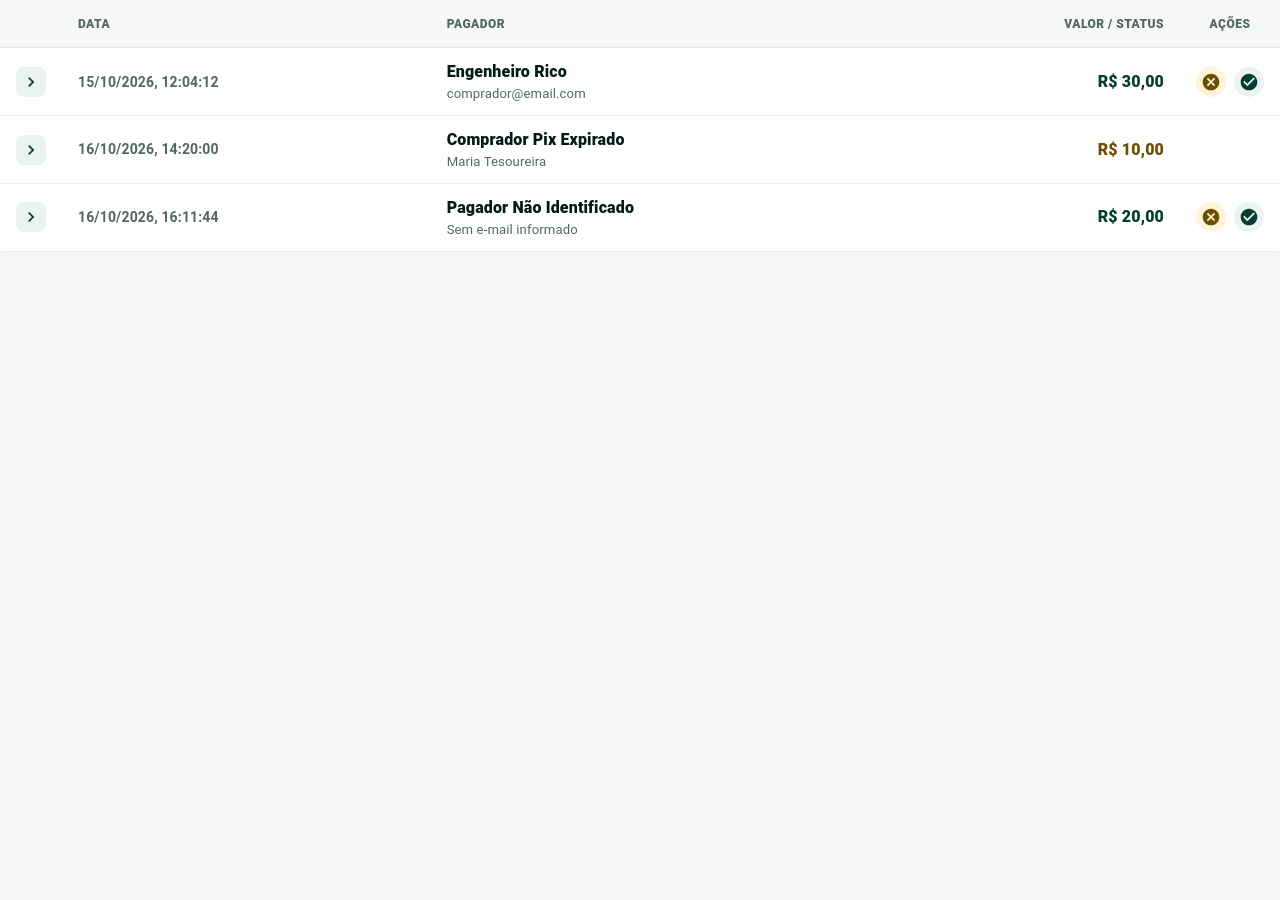
Componente: PixTransacoesTable › Deve exibir dados resumidos e abrir detalhes da transação
The width and height of the screenshot is (1280, 900).
Expected: the text "Engenheiro Rico" is shown, [447, 62, 567, 81]
Expected: the text "R$ 30,00" is shown, [1098, 70, 1164, 94]
Click the button named "abrir detalhes da transação pix engenheiro rico": click(31, 82) [16, 67, 46, 97]
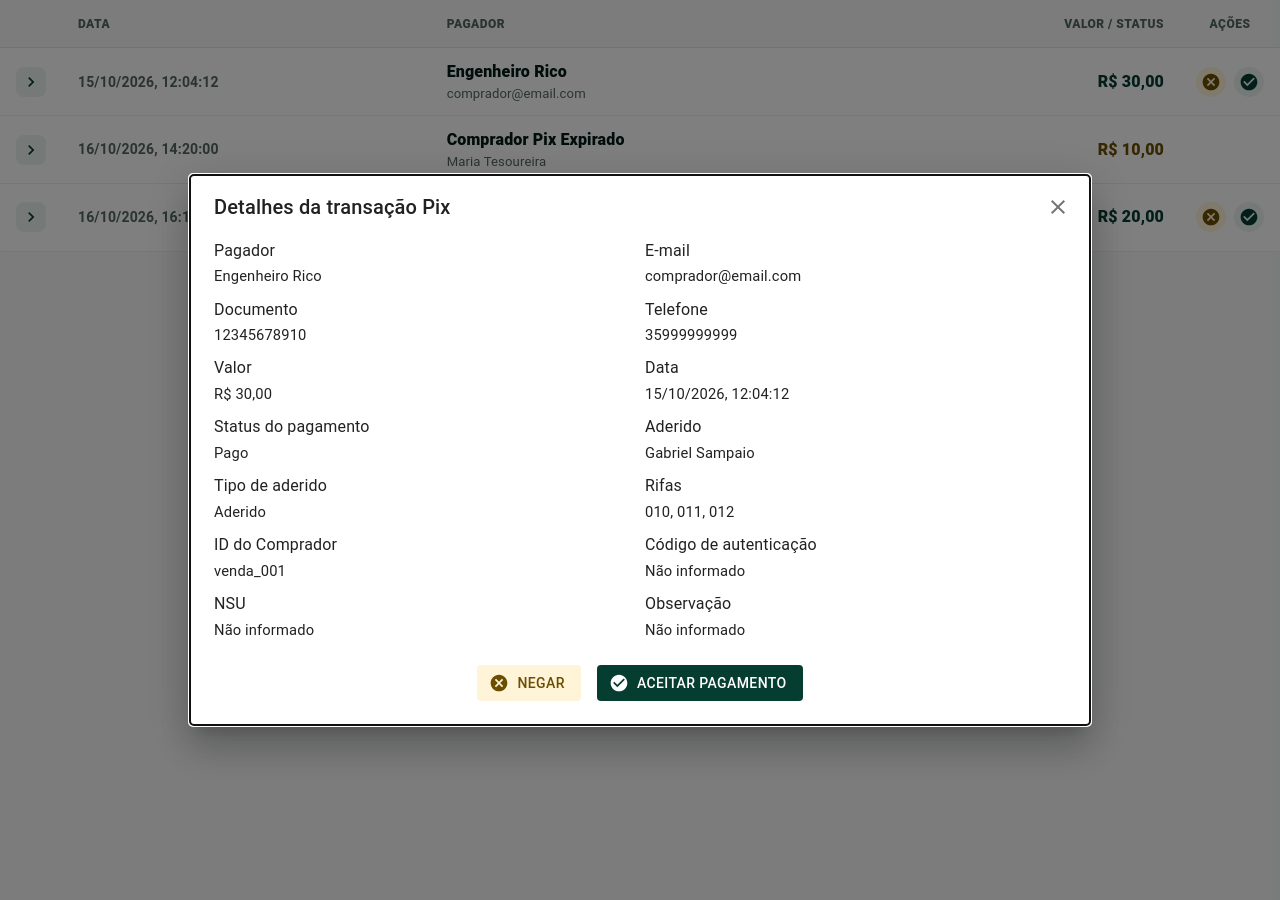
Result: the heading "Detalhes da transação Pix" is shown at [190, 175, 1090, 239]
Result: the text "Gabriel Sampaio" is shown at [645, 444, 755, 462]
Result: the text "010, 011, 012" is shown at [645, 503, 734, 521]
